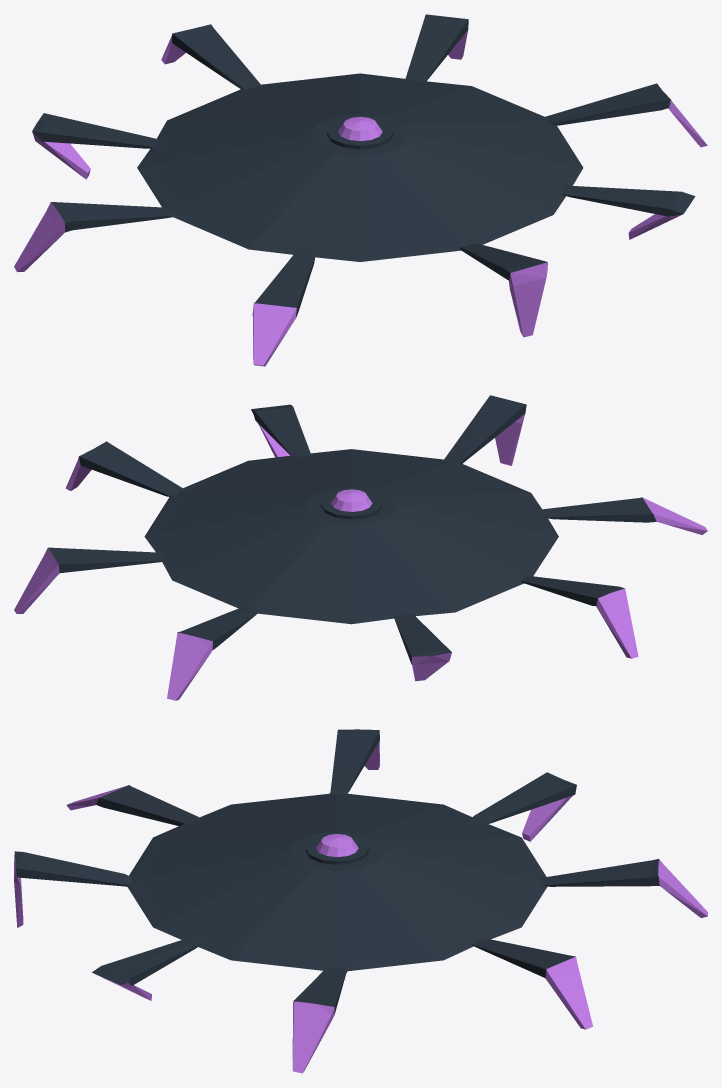
File: Spider_Walk_000008.obj
3 renders of one model, top to bottom at view 1: azimuth 30°, elevation 25°; view 2: azimuth 150°, elevation 25°; view 3: azimuth 270°, elevation 25°, orthographic. The views are drawn at different scales.
Parts seen in each view (by area): view 1: Circle_Circle.001; view 2: Circle_Circle.001; view 3: Circle_Circle.001.
Boxes of the visible parts, <box> form: Circle_Circle.001: <box>14,14,707,366</box>; Circle_Circle.001: <box>14,395,707,700</box>; Circle_Circle.001: <box>14,729,707,1073</box>.
Size of the model in its own units: 3.38 by 0.4569 by 3.26.
